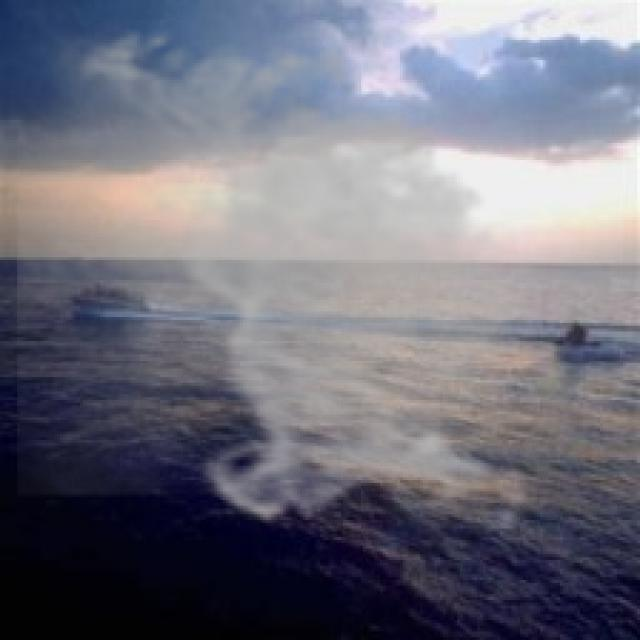smoke: (17, 14, 557, 529)
